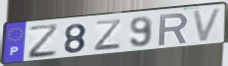8: (64, 23, 87, 54)
9: (128, 15, 153, 49)
R: (157, 11, 190, 47)
V: (190, 6, 224, 44)
Z: (27, 22, 60, 60), (93, 18, 123, 52)
